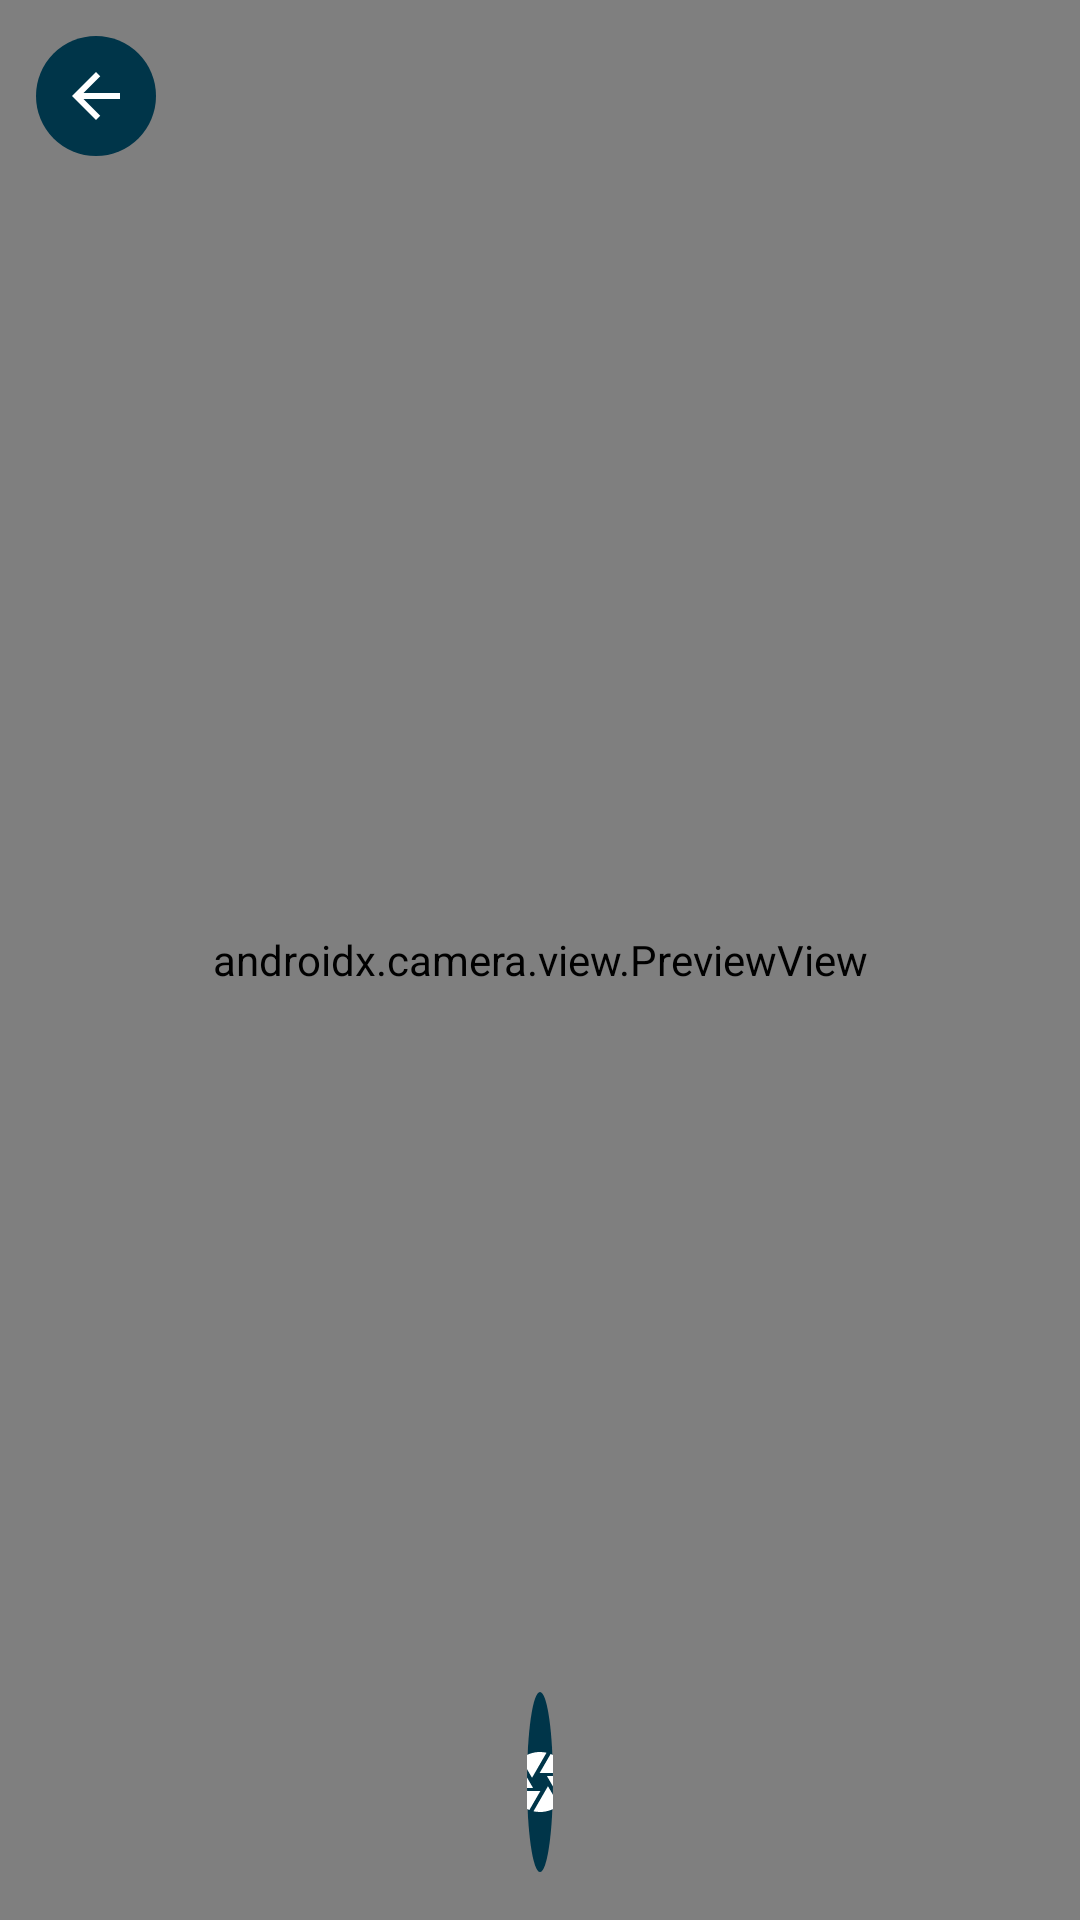

Icon click points for this 1080 × 1920 phone screenshot, format point (x, y):
back arrow: point (96, 96)
